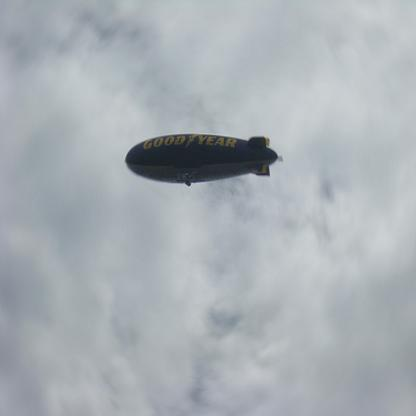Airship: (123, 130, 285, 196)
